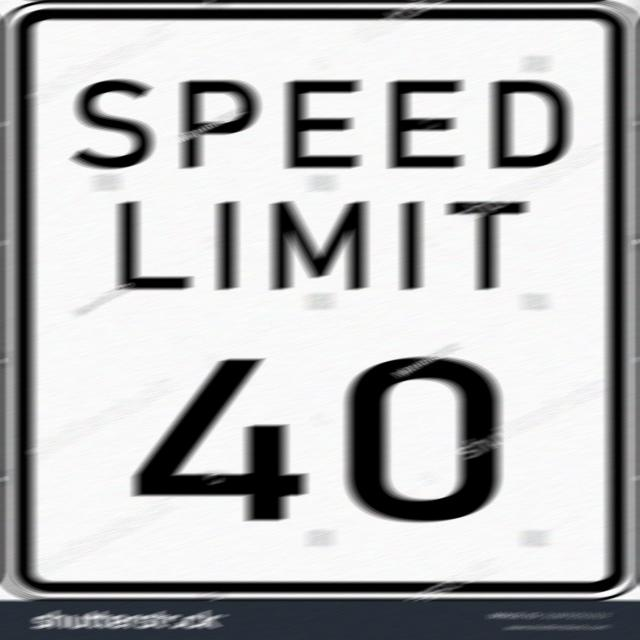speedLimit40: (1, 0, 638, 596)
